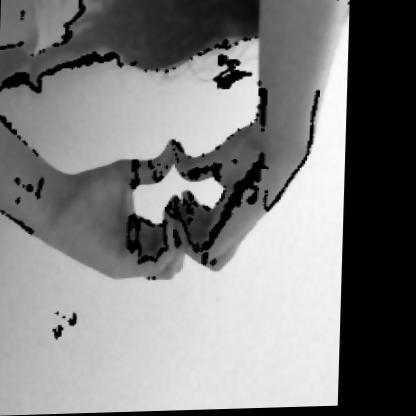heart: (39, 109, 316, 295)
